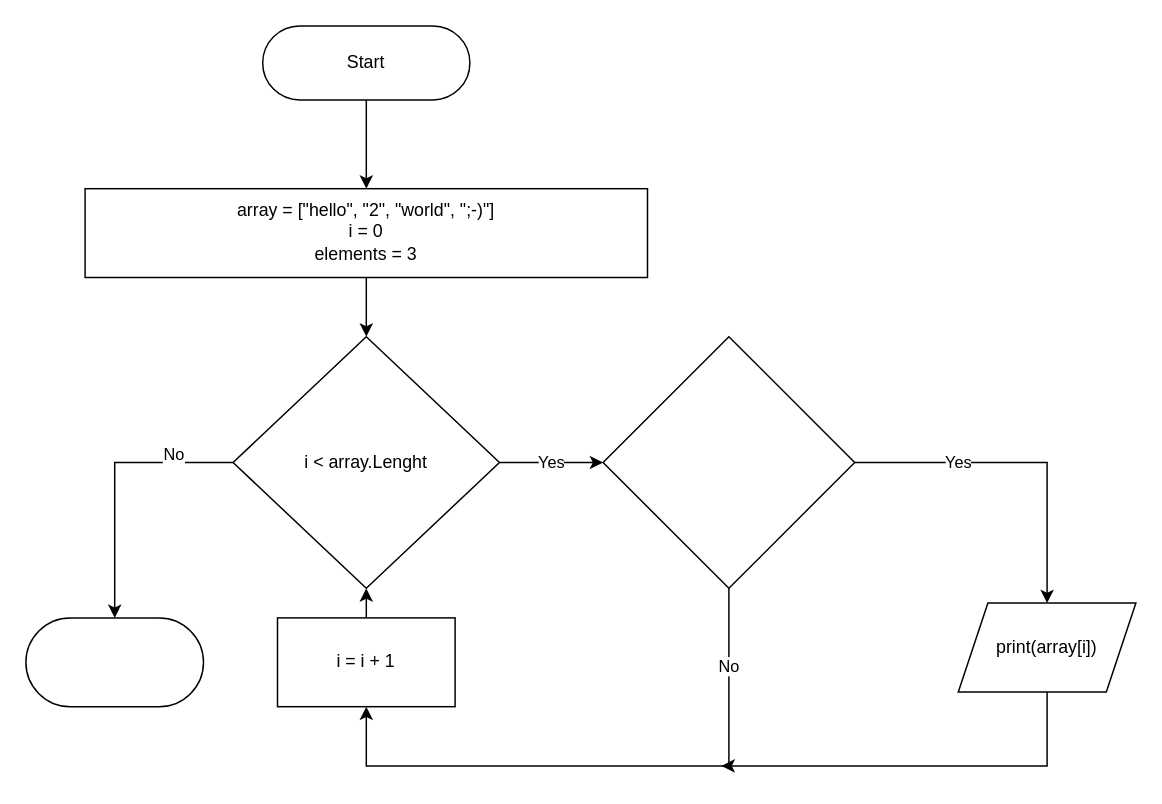
The diagram is 1162 pixels wide and 804 high, and some of its shapes have lost their labels. Each missing label, with the centre of its shape:
"array[i].Lenght <= elements" belongs at point 728,461.
"End" belongs at point 114,661.
